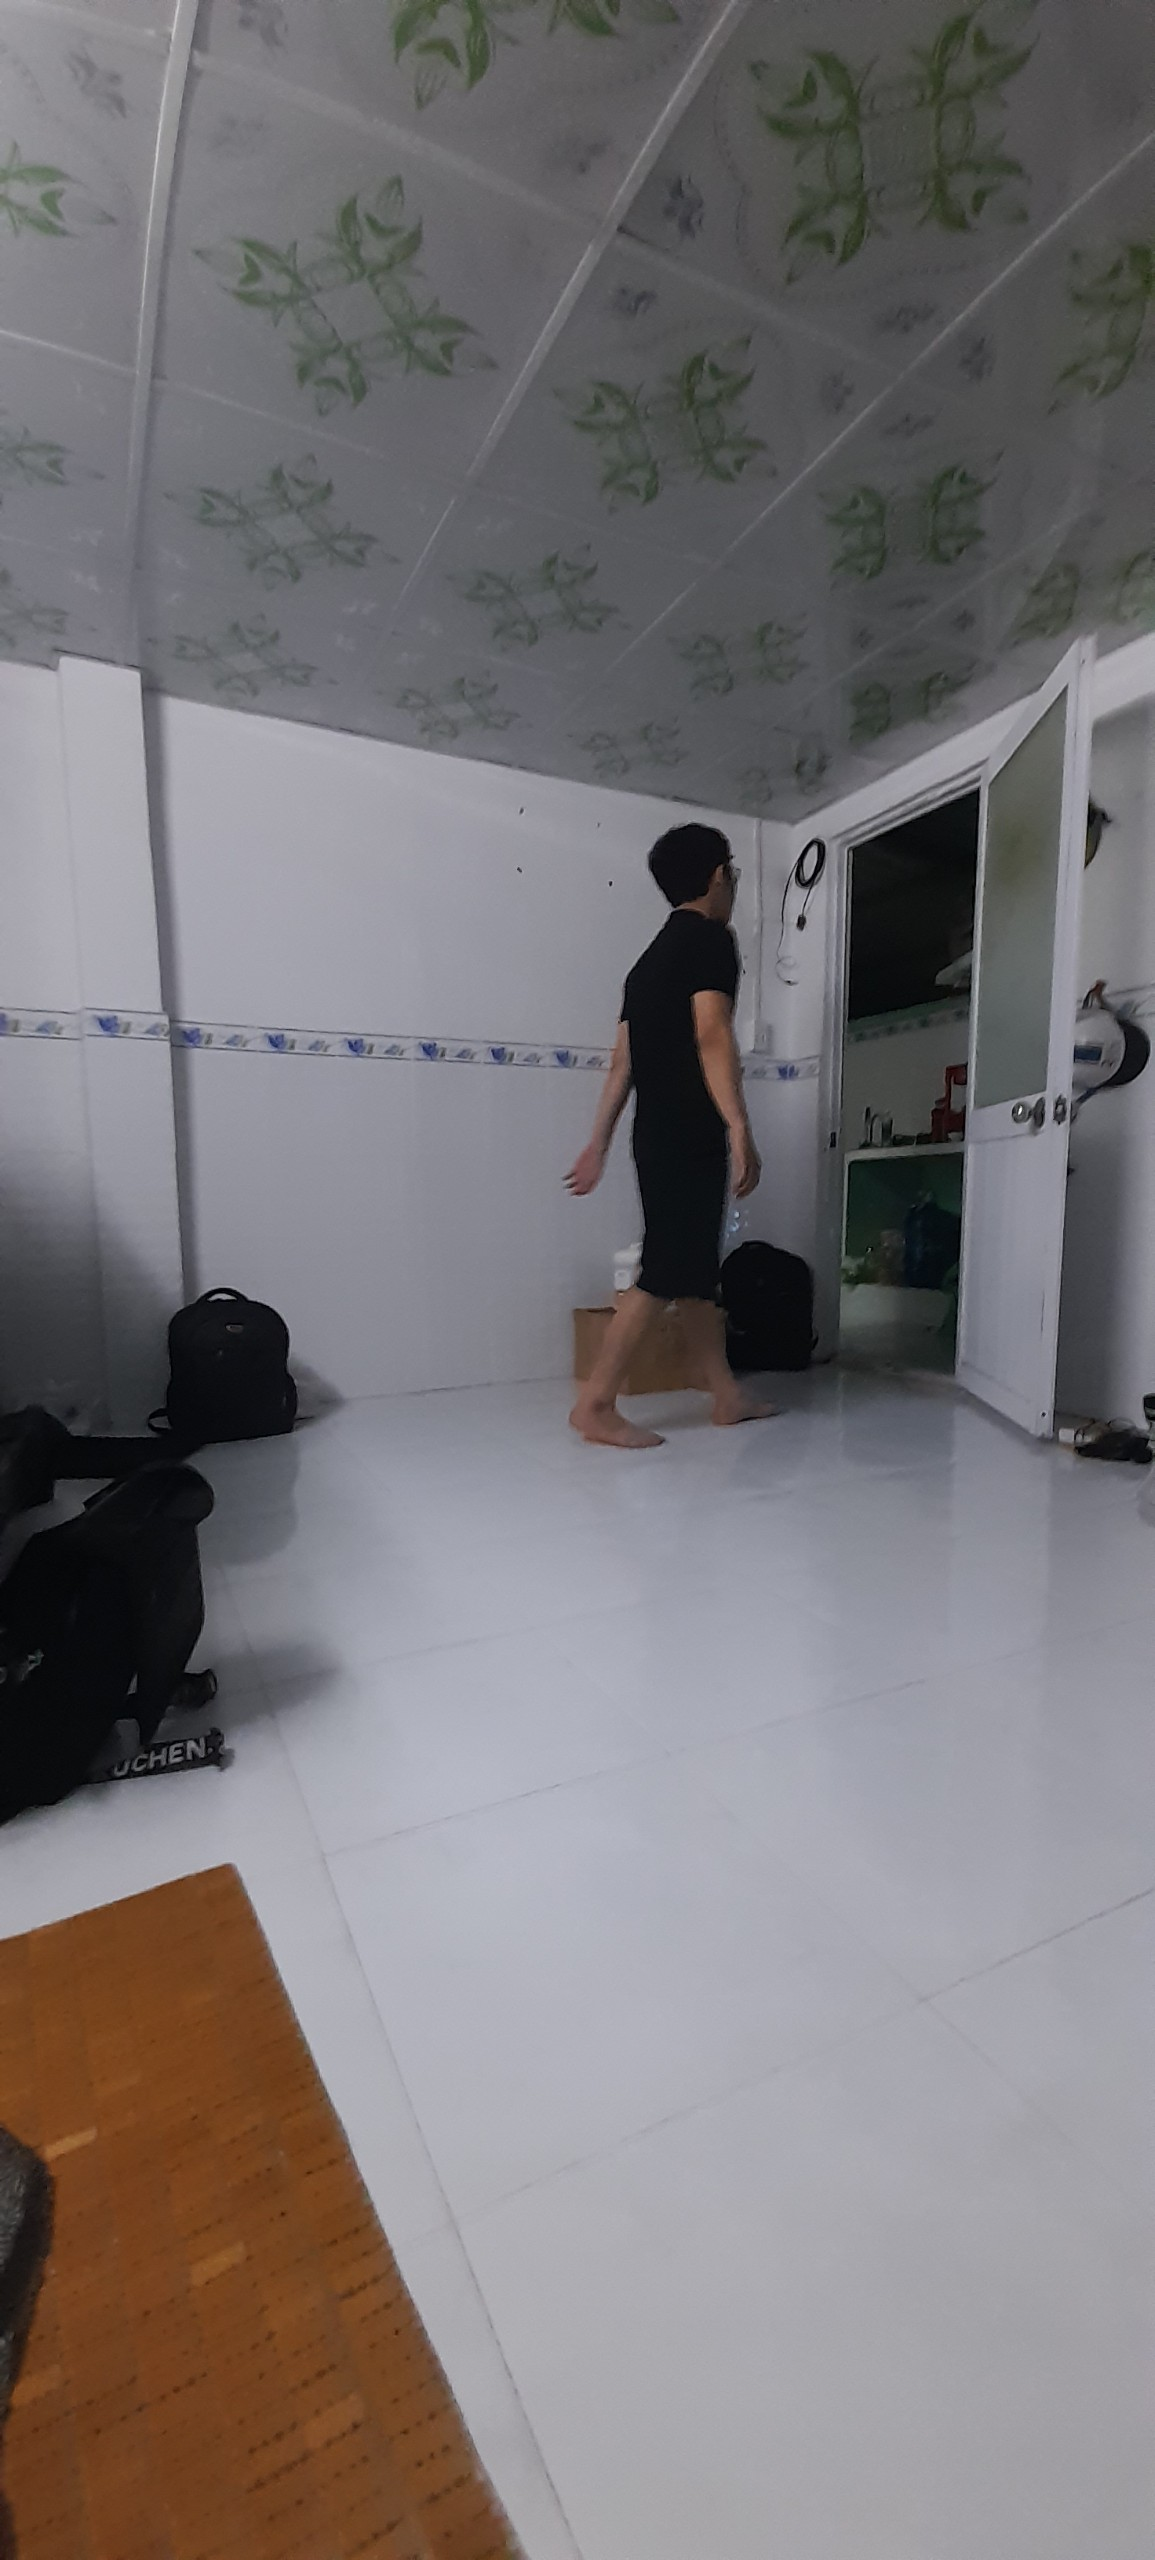person: (587, 825, 779, 1447)
